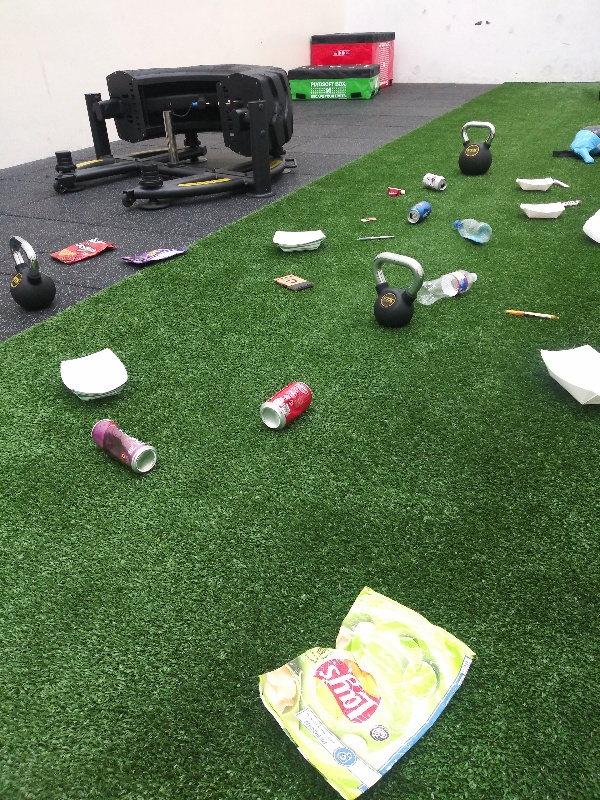bag: (251, 583, 478, 799), (48, 234, 119, 268), (119, 244, 191, 268)
bottle: (418, 266, 481, 310), (448, 210, 495, 249)
can: (88, 415, 160, 481), (257, 377, 320, 435), (405, 198, 434, 227), (418, 169, 448, 193)
plate: (53, 347, 136, 404), (536, 342, 600, 415), (269, 226, 328, 255), (515, 198, 567, 220), (577, 205, 600, 248), (508, 174, 557, 192)
